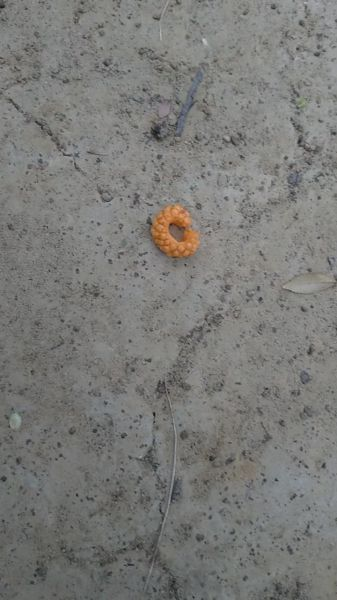eggs: (148, 197, 210, 261)
